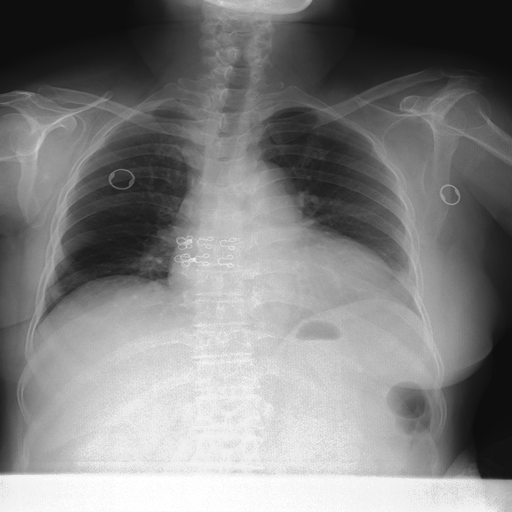Consolidation: (254, 161, 302, 221)
Nodule/Mass: (168, 224, 396, 307)
